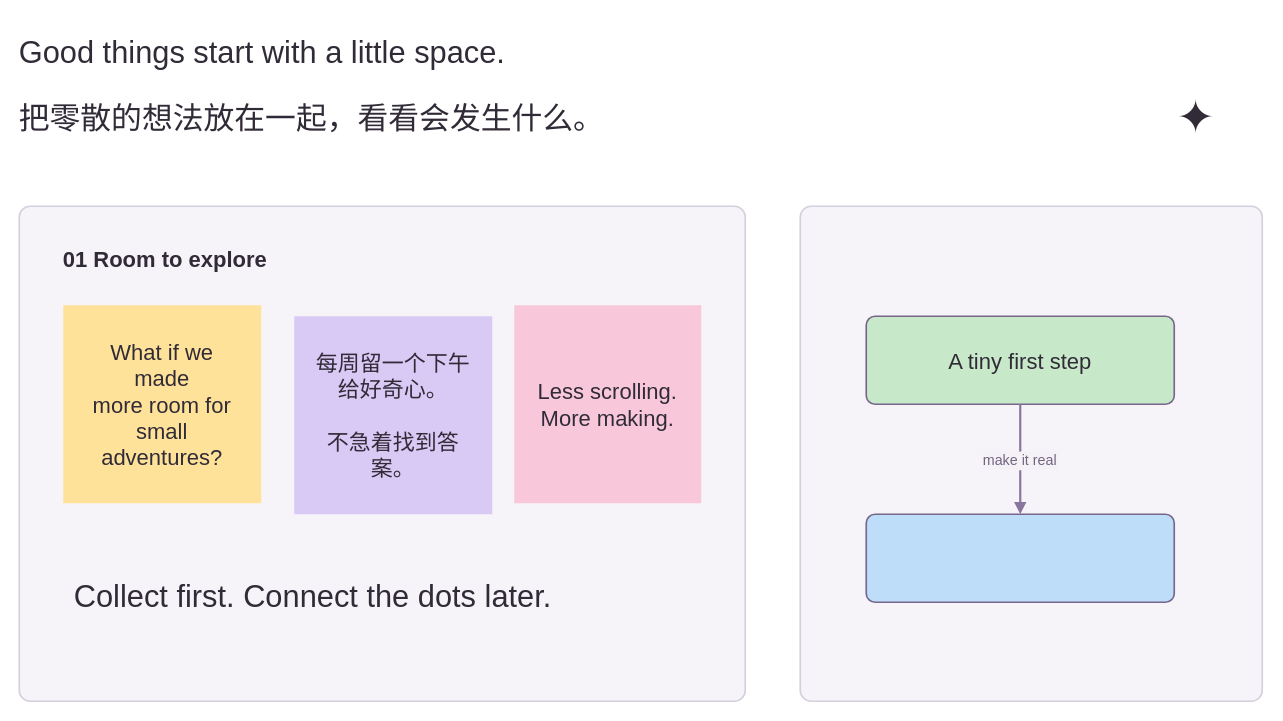
Image size: 1283x721. Some labels were removed from this diagram. Each missing label, with the box of its shape:
02 Make it happen: (799, 205, 1263, 702)
Something worth sharing: (865, 513, 1175, 603)
